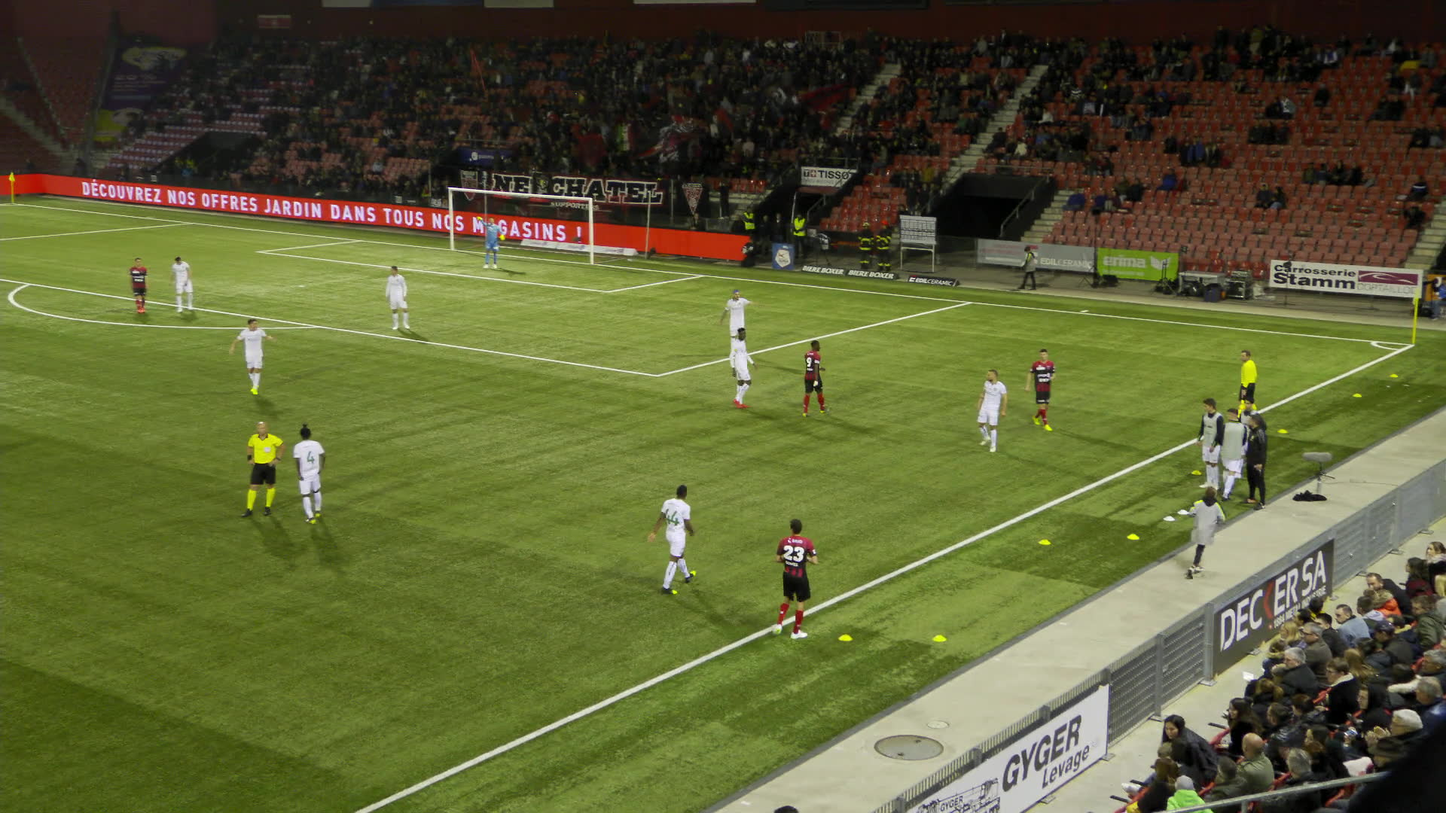player: (773, 518, 819, 636), (659, 483, 700, 589), (236, 317, 288, 394), (300, 421, 334, 517), (975, 370, 1006, 451), (1025, 349, 1055, 429), (729, 328, 757, 408), (721, 290, 754, 351), (805, 340, 830, 415), (389, 266, 416, 330), (475, 216, 505, 268), (171, 257, 197, 312), (139, 259, 157, 312)
referee: (248, 421, 291, 516), (1235, 351, 1255, 416)
